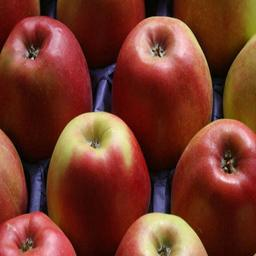apple: (109, 17, 212, 172), (45, 111, 151, 251), (1, 15, 92, 166), (170, 121, 254, 256), (172, 1, 254, 75), (55, 1, 145, 68), (113, 211, 208, 255), (221, 31, 255, 133), (1, 211, 76, 255)
